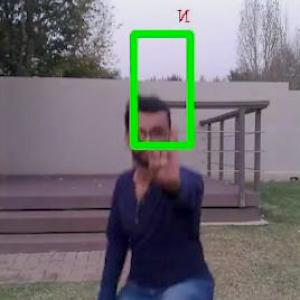takeoff-hand: (134, 121, 192, 189)
